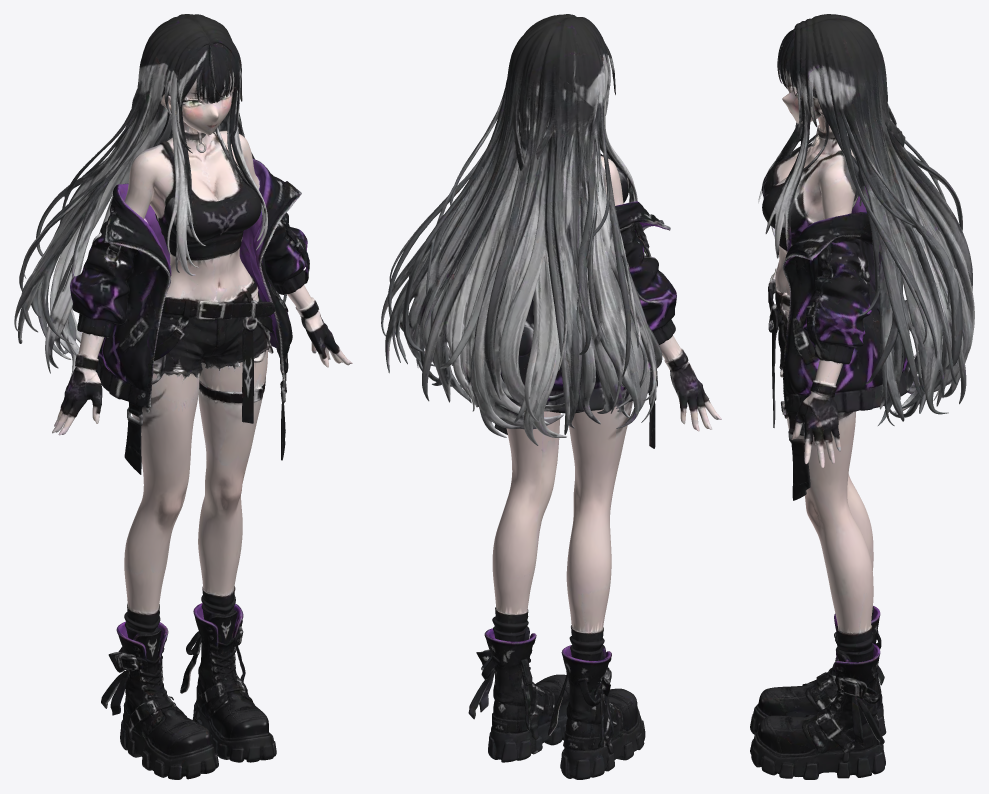
File: braskamodel.glb
3 views of the same model, side by side, from view 1: azimuth 30°, elevation 25°; view 2: azimuth 150°, elevation 25°; view 3: azimuth 270°, elevation 25° (orthographic).
Size of the model in its own units: 0.8022 by 1.9 by 0.5285.
Materials: 1 (1 with a texture image).
